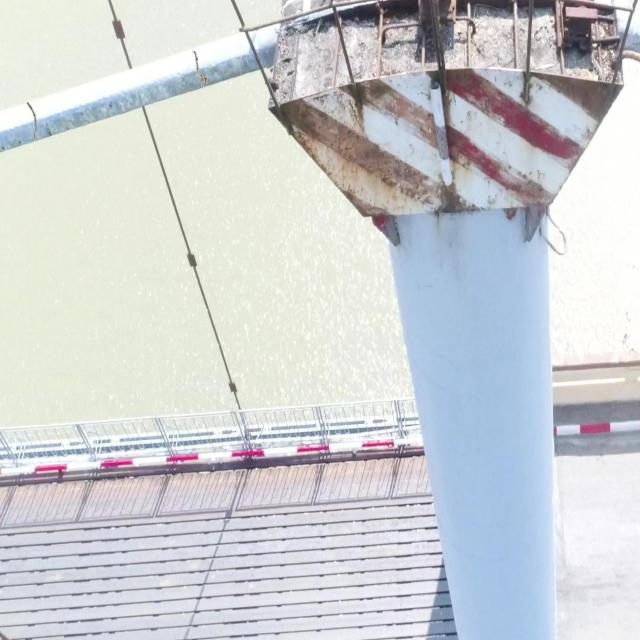crack: (192, 50, 208, 85), (26, 103, 39, 138)
